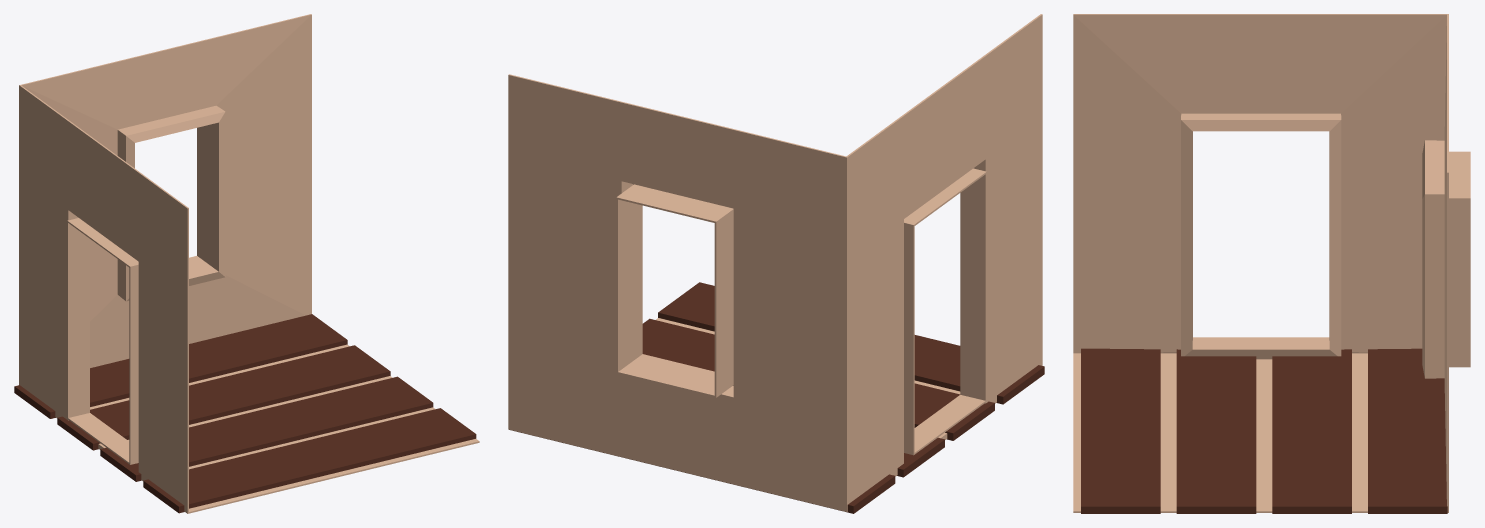
File: roomtest.glb
The picture shows the model from 3 angles, left to right: view 1: azimuth 30°, elevation 25°; view 2: azimuth 150°, elevation 25°; view 3: azimuth 270°, elevation 25°; orthographic projection. The views are drawn at different scales.
Parts seen in each view (by area): view 1: Cube, Cube.001; view 2: Cube, Cube.001; view 3: Cube, Cube.001.
Boxes of the visible parts, x1,y1,x2,y2 form: Cube: (19,14,479,513); Cube.001: (14,314,476,513); Cube: (508,14,1042,511); Cube.001: (509,282,1044,513); Cube: (1073,14,1470,512); Cube.001: (1081,348,1447,513).
Size of the model in its own units: 2.04 by 2 by 2.12.
